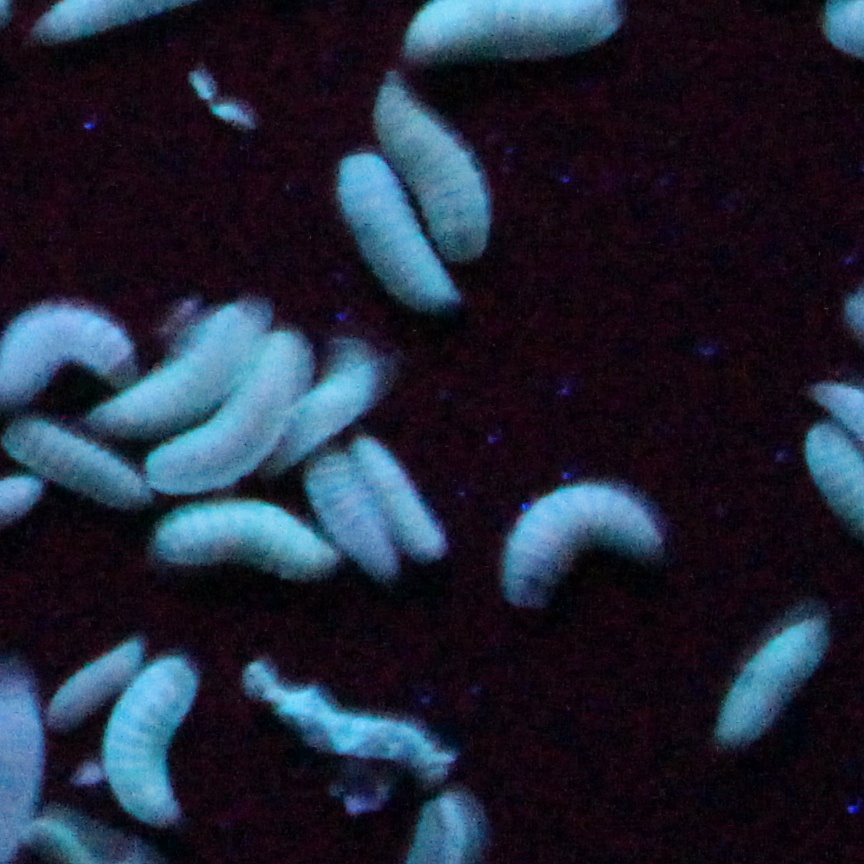larve: (149, 346, 313, 488), (387, 78, 492, 263), (344, 152, 448, 320), (515, 490, 652, 608), (103, 319, 251, 423), (716, 612, 826, 744), (113, 670, 193, 827), (7, 424, 144, 511), (160, 507, 320, 576), (309, 457, 393, 582), (360, 437, 444, 559), (51, 643, 139, 720)
